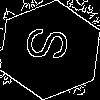S: (25, 25, 79, 64)
